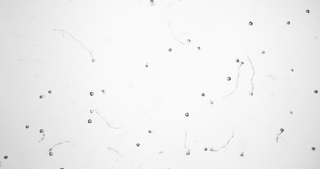germinated: (47, 145, 56, 157), (183, 145, 192, 156), (184, 36, 192, 47), (37, 129, 46, 138), (87, 52, 95, 62), (248, 86, 255, 96), (277, 127, 284, 137), (88, 108, 98, 114), (209, 146, 218, 152), (240, 60, 244, 68)
nongerminated: (304, 7, 312, 14), (247, 19, 254, 27), (199, 91, 207, 98), (143, 62, 150, 69), (134, 141, 141, 148), (86, 117, 93, 124), (312, 87, 318, 95), (286, 18, 292, 25), (260, 49, 267, 55), (310, 145, 316, 152), (289, 67, 295, 74), (225, 75, 232, 81), (195, 45, 202, 51), (183, 111, 190, 117), (146, 128, 153, 134), (88, 90, 94, 97), (166, 47, 172, 53), (202, 145, 208, 151), (100, 88, 106, 94), (47, 88, 53, 94), (38, 93, 44, 99), (235, 56, 240, 63), (239, 151, 244, 158), (288, 110, 293, 116), (24, 123, 30, 128), (2, 154, 8, 159)
